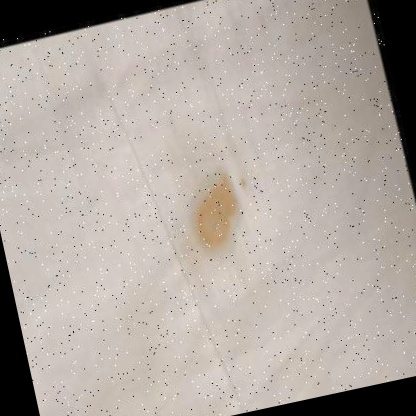kimchi: (176, 166, 255, 258)
